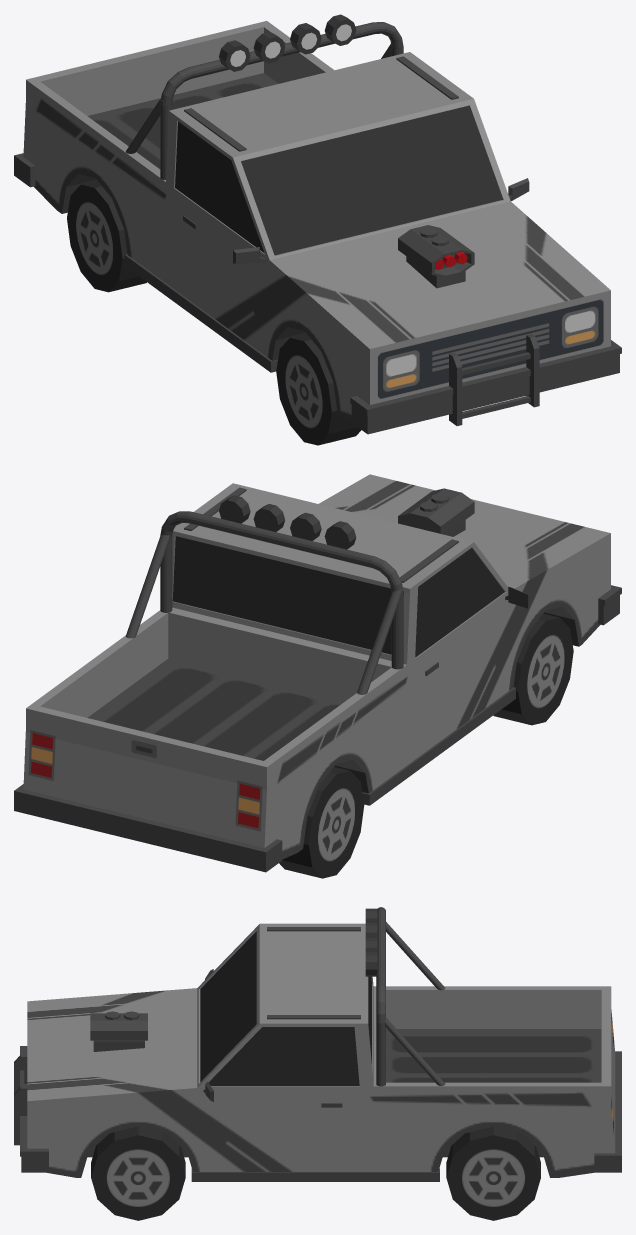
File: muscle-car.glb
3 renders of one model, top to bottom at view 1: azimuth 30°, elevation 25°; view 2: azimuth 150°, elevation 25°; view 3: azimuth 270°, elevation 25°, orthographic. The views are drawn at different scales.
Visible parts, largest first — view 1: Body, FR, RR; view 2: Body, RR, FR; view 3: Body, RL, FL.
Part boxes in pixels (x1,y1,x2,y2): Body: (14, 14, 621, 434); FR: (276, 334, 361, 445); RR: (67, 180, 146, 292); Body: (14, 474, 621, 872); RR: (279, 767, 364, 878); FR: (493, 613, 573, 725); Body: (14, 907, 621, 1181); RL: (446, 1126, 540, 1220); FL: (91, 1126, 185, 1220).
Size of the model in its own units: 3.06 by 2.79 by 6.43.
1 material, 1 textured.
